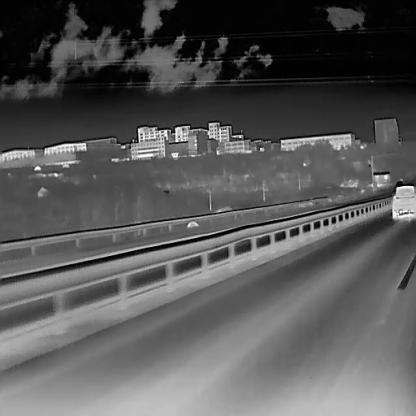car: (392, 185, 416, 219), (395, 180, 403, 186)
